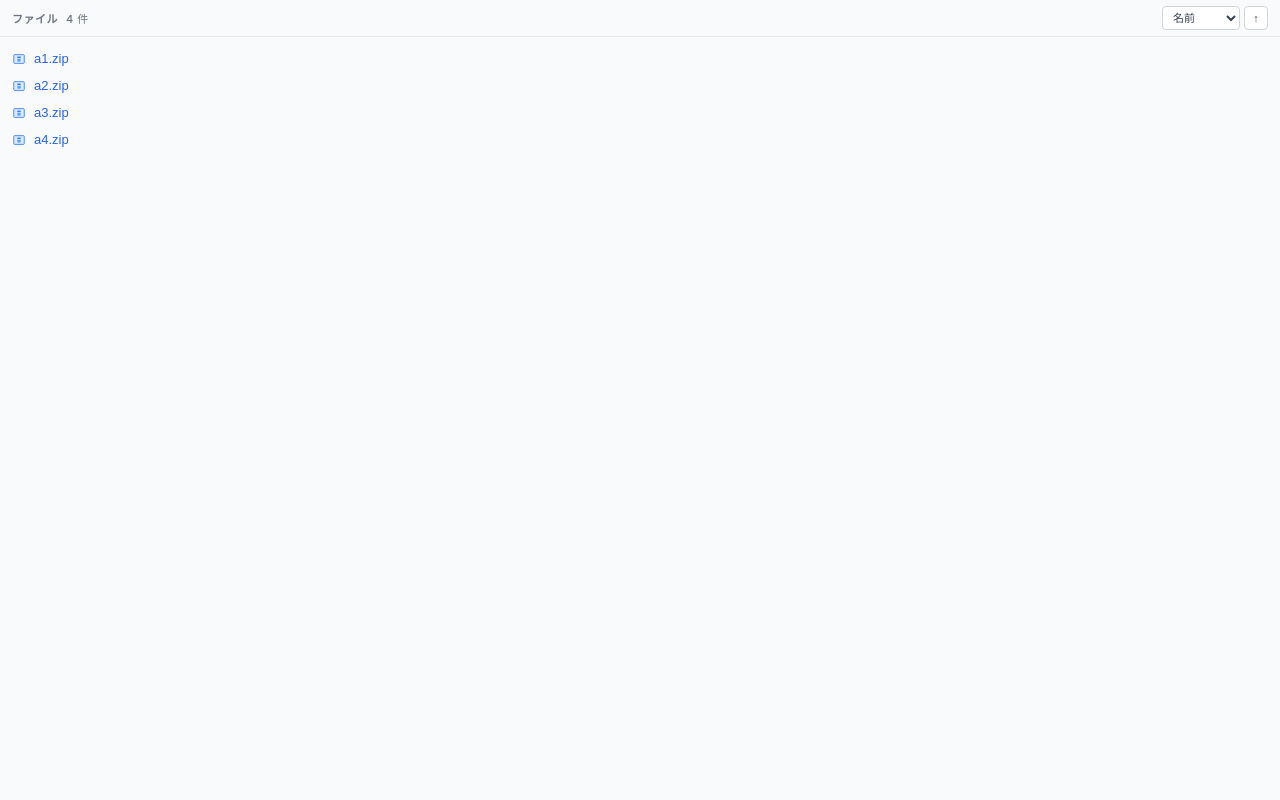
moving files to the trash › trashes nothing when the confirm dialog is cancelled
The image size is (1280, 800).
Click the option "a1.zip".
click(51, 58)  # box 0,45 -> 1279,72
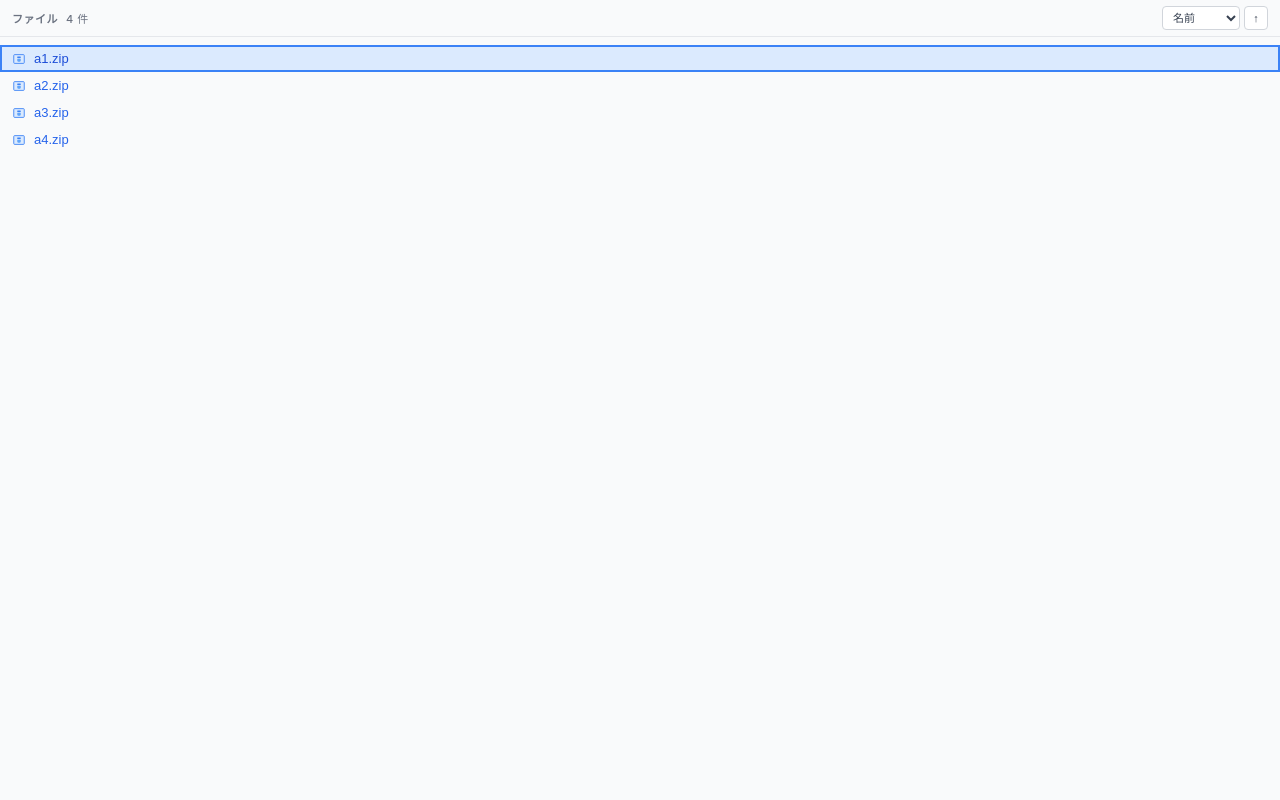
Press Delete
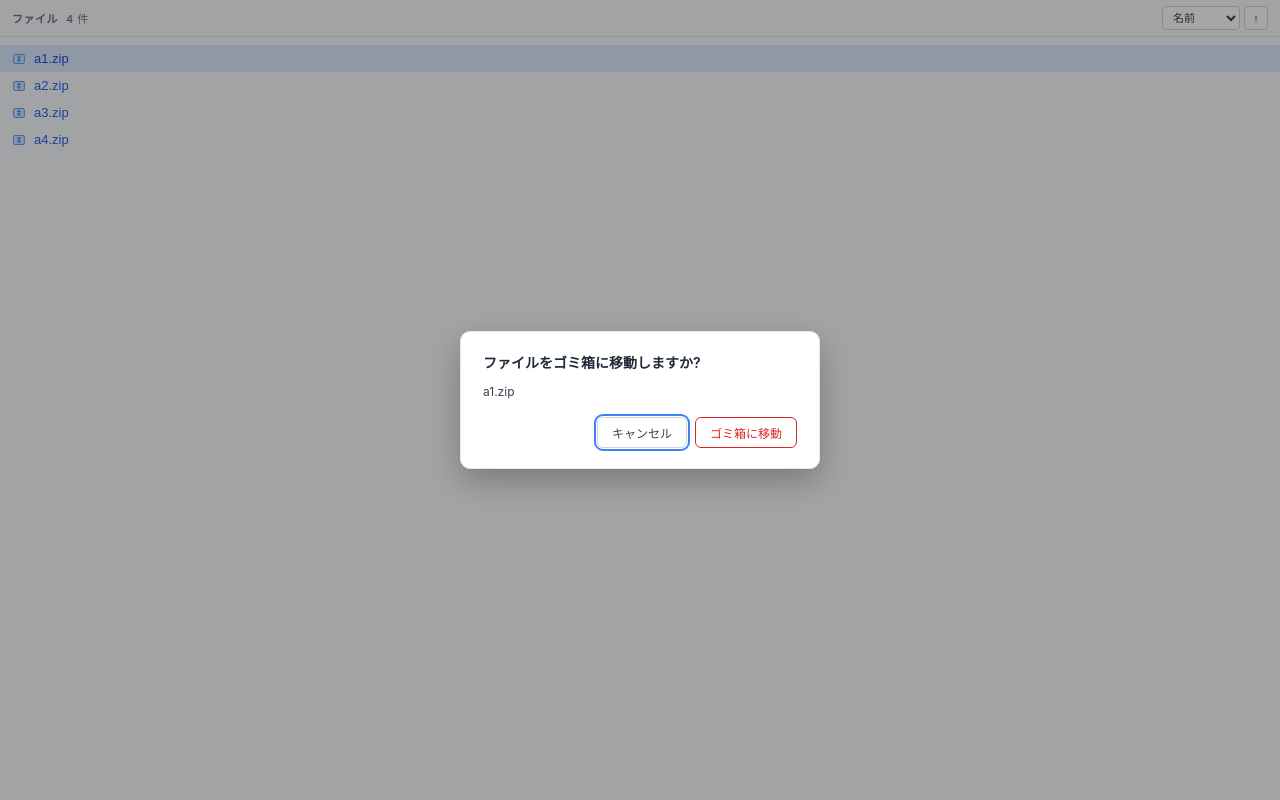
Click the button "キャンセル".
click(642, 433)  # box 597,417 -> 687,448
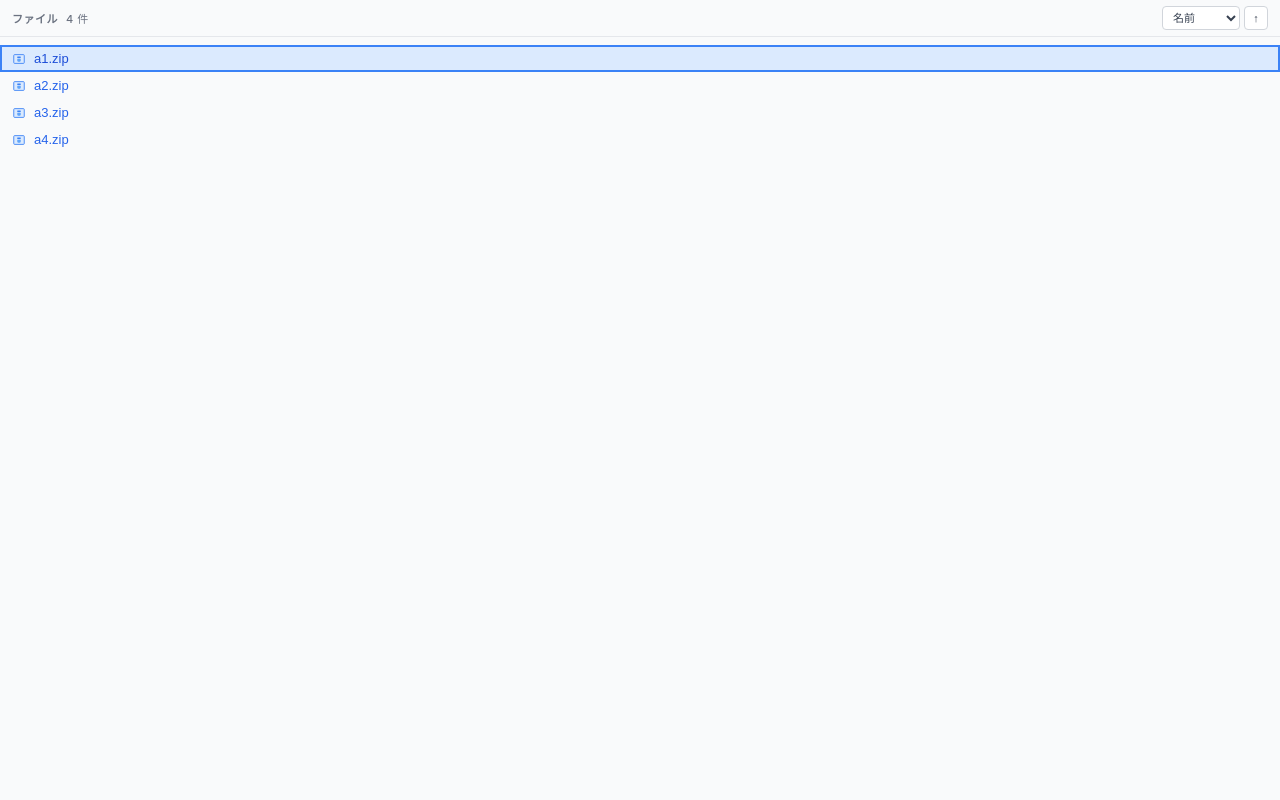
Expected: the dialog is gone
